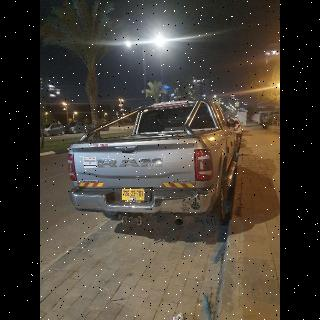LicensePlate: (122, 190, 144, 197)
